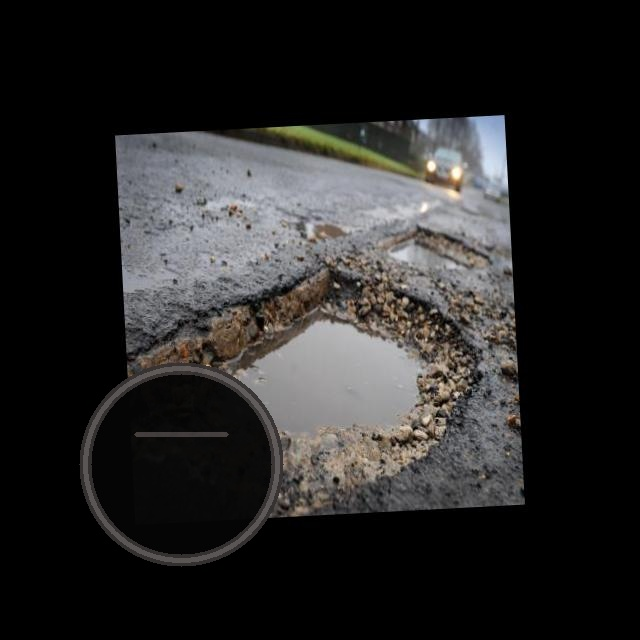open_manhole: (76, 359, 286, 569)
